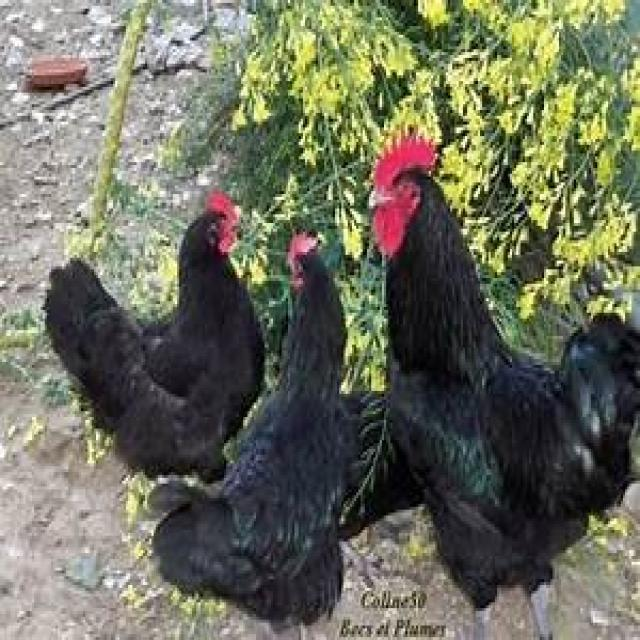hen: (369, 136, 640, 640), (154, 235, 356, 626), (43, 194, 265, 484)
